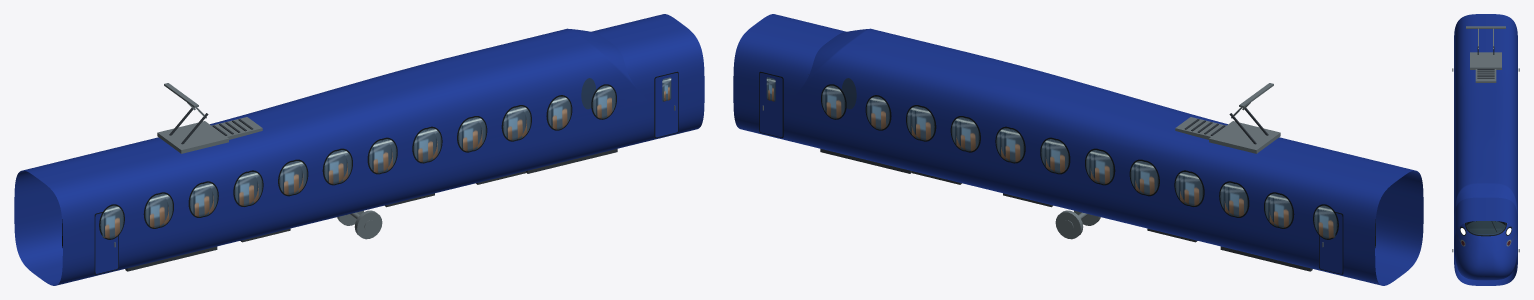
File: rapit.glb
The picture shows the model from 3 angles, left to right: view 1: azimuth 30°, elevation 25°; view 2: azimuth 150°, elevation 25°; view 3: azimuth 270°, elevation 25°; orthographic projection. The views are drawn at different scales.
Parts seen in each view (by area): view 1: cab-shell__CAB_PAINT, car-shell__CAB_PAINT, body__PASSENGER_GLASS.001, body__RUBBER.001, pantograph__STAINLESS, body__PASSENGER_GLASS, body__CAB_PAINT.001, body__CAB_PAINT, body__RUBBER, body__MACHINERY, wheel-axle, body__STAINLESS.001 (+1 smaller); view 2: cab-shell__CAB_PAINT, car-shell__CAB_PAINT, body__PASSENGER_GLASS.001, body__RUBBER.001, pantograph__STAINLESS, body__PASSENGER_GLASS, body__CAB_PAINT.001, body__CAB_PAINT, body__RUBBER, wheel-axle, body__MACHINERY, body__STAINLESS.001 (+1 smaller); view 3: cab-shell__CAB_PAINT, car-shell__CAB_PAINT, pantograph__STAINLESS, cab-window-glazing__CAB_GLASS, body__RUBBER.001, body__STAINLESS.001, body__CAB_CONSOLE, body__MACHINERY.001, cab-window-gasket__RUBBER, body__MACHINERY, body__STAINLESS, nose-lamp__HEADLAMP.
Part boxes in pixels (left/top/right/bottom): cab-shell__CAB_PAINT: left=14, top=28, right=647, bottom=284; car-shell__CAB_PAINT: left=14, top=14, right=704, bottom=285; body__PASSENGER_GLASS.001: left=100, top=77, right=671, bottom=238; body__RUBBER.001: left=62, top=71, right=678, bottom=247; pantograph__STAINLESS: left=157, top=83, right=228, bottom=153; body__PASSENGER_GLASS: left=102, top=106, right=530, bottom=237; body__CAB_PAINT.001: left=655, top=73, right=677, bottom=137; body__CAB_PAINT: left=95, top=213, right=118, bottom=273; body__RUBBER: left=94, top=105, right=531, bottom=274; body__MACHINERY: left=125, top=119, right=617, bottom=271; wheel-axle: left=337, top=210, right=382, bottom=239; body__STAINLESS.001: left=211, top=105, right=675, bottom=139; cab-shell__CAB_PAINT: left=790, top=28, right=1423, bottom=284; car-shell__CAB_PAINT: left=733, top=14, right=1423, bottom=285; body__PASSENGER_GLASS.001: left=766, top=77, right=1337, bottom=238; body__RUBBER.001: left=759, top=71, right=1375, bottom=247; pantograph__STAINLESS: left=1209, top=83, right=1280, bottom=153; body__PASSENGER_GLASS: left=907, top=106, right=1335, bottom=237; body__CAB_PAINT.001: left=760, top=73, right=782, bottom=137; body__CAB_PAINT: left=1319, top=213, right=1342, bottom=273; body__RUBBER: left=906, top=105, right=1343, bottom=274; wheel-axle: left=1055, top=210, right=1100, bottom=239; body__MACHINERY: left=820, top=119, right=1312, bottom=271; body__STAINLESS.001: left=762, top=105, right=1226, bottom=139; cab-shell__CAB_PAINT: left=1454, top=14, right=1517, bottom=280; car-shell__CAB_PAINT: left=1454, top=14, right=1517, bottom=285; pantograph__STAINLESS: left=1466, top=26, right=1505, bottom=69; cab-window-glazing__CAB_GLASS: left=1466, top=221, right=1505, bottom=235; body__RUBBER.001: left=1466, top=221, right=1505, bottom=229; body__STAINLESS.001: left=1452, top=69, right=1519, bottom=252; body__CAB_CONSOLE: left=1470, top=229, right=1501, bottom=233; body__MACHINERY.001: left=1477, top=69, right=1494, bottom=78; cab-window-gasket__RUBBER: left=1465, top=223, right=1506, bottom=236; body__MACHINERY: left=1477, top=69, right=1494, bottom=78; body__STAINLESS: left=1452, top=68, right=1519, bottom=82; nose-lamp__HEADLAMP: left=1460, top=228, right=1511, bottom=234.
Size of the model in its own units: 21.83 by 5.86 by 2.98.
Materials: 11 (1 with a texture image).
